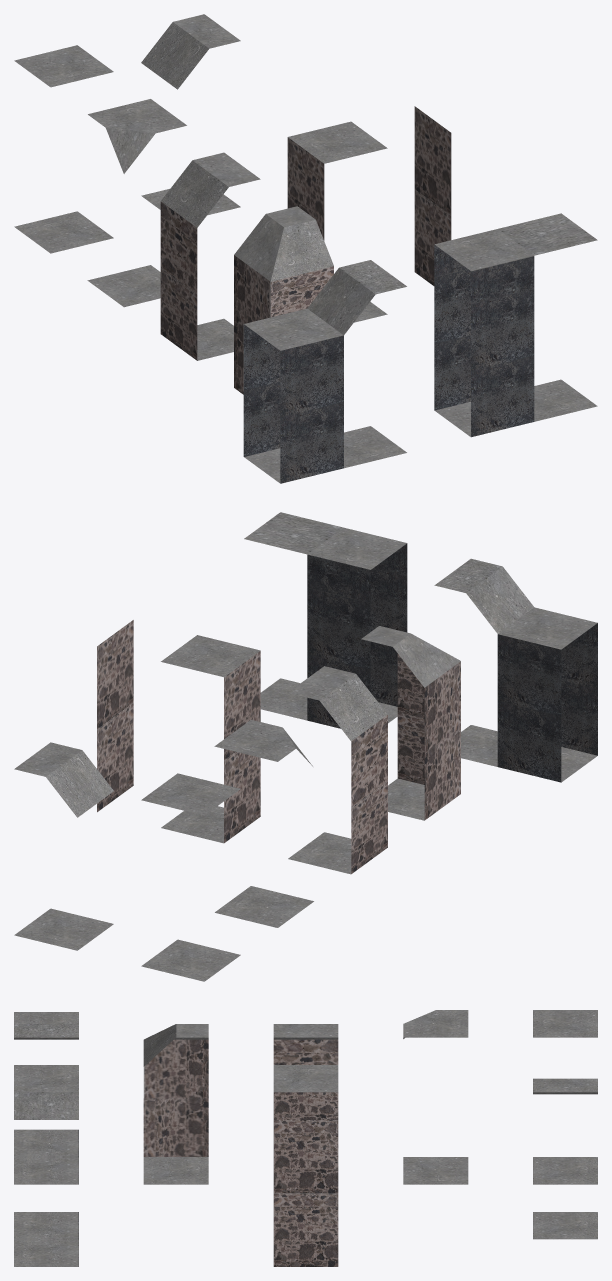
File: Skooks_v2.18.18.glb
3 renders of one model, top to bottom at view 1: azimuth 30°, elevation 25°; view 2: azimuth 150°, elevation 25°; view 3: azimuth 270°, elevation 25°, orthographic. The views are drawn at different scales.
Parts seen in each view (by area): view 1: Tunnel.Tall-col, Tunnel-col, Wall.003-col, Wall_corner-col, Wall.001-col, Floor_corner-col, Wall.002-col, Floor.001-col, Floor.002-col; view 2: Tunnel-col, Tunnel.Tall-col, Wall_corner-col, Wall.003-col, Wall.002-col, Floor.002-col, Wall.001-col, Floor.001-col, Floor_corner-col; view 3: Wall_corner-col, Wall.001-col, Tunnel.Tall-col, Tunnel-col, Floor.001-col, Wall.002-col, Floor_corner-col, Floor.002-col, Wall.003-col.
Boxes of the visible parts, box(x1,y1,x2,y2) form: Tunnel.Tall-col: box(434, 213, 597, 437); Tunnel-col: box(243, 260, 406, 483); Wall.003-col: box(160, 152, 260, 360); Wall_corner-col: box(234, 206, 333, 394); Wall.001-col: box(414, 106, 451, 285); Floor_corner-col: box(87, 99, 186, 307); Wall.002-col: box(287, 121, 387, 322); Floor.001-col: box(14, 45, 113, 253); Floor.002-col: box(141, 14, 240, 215); Tunnel-col: box(434, 558, 597, 782); Tunnel.Tall-col: box(244, 512, 407, 728); Wall_corner-col: box(361, 626, 460, 820); Wall.003-col: box(288, 666, 387, 874); Wall.002-col: box(161, 635, 260, 843); Floor.002-col: box(14, 742, 113, 950); Wall.001-col: box(97, 620, 133, 812); Floor.001-col: box(141, 773, 240, 981); Floor_corner-col: box(214, 719, 313, 927); Wall_corner-col: box(143, 1024, 208, 1184); Wall.001-col: box(273, 1120, 338, 1266); Tunnel.Tall-col: box(14, 1065, 78, 1266); Tunnel-col: box(14, 1012, 78, 1184); Floor.001-col: box(533, 1010, 597, 1184); Wall.002-col: box(273, 1065, 338, 1119); Floor_corner-col: box(403, 1010, 468, 1184); Floor.002-col: box(533, 1078, 597, 1239); Wall.003-col: box(273, 1024, 338, 1064).
Size of the model in its own units: 5 by 2.5 by 9.
Materials: 1 (1 with a texture image).
